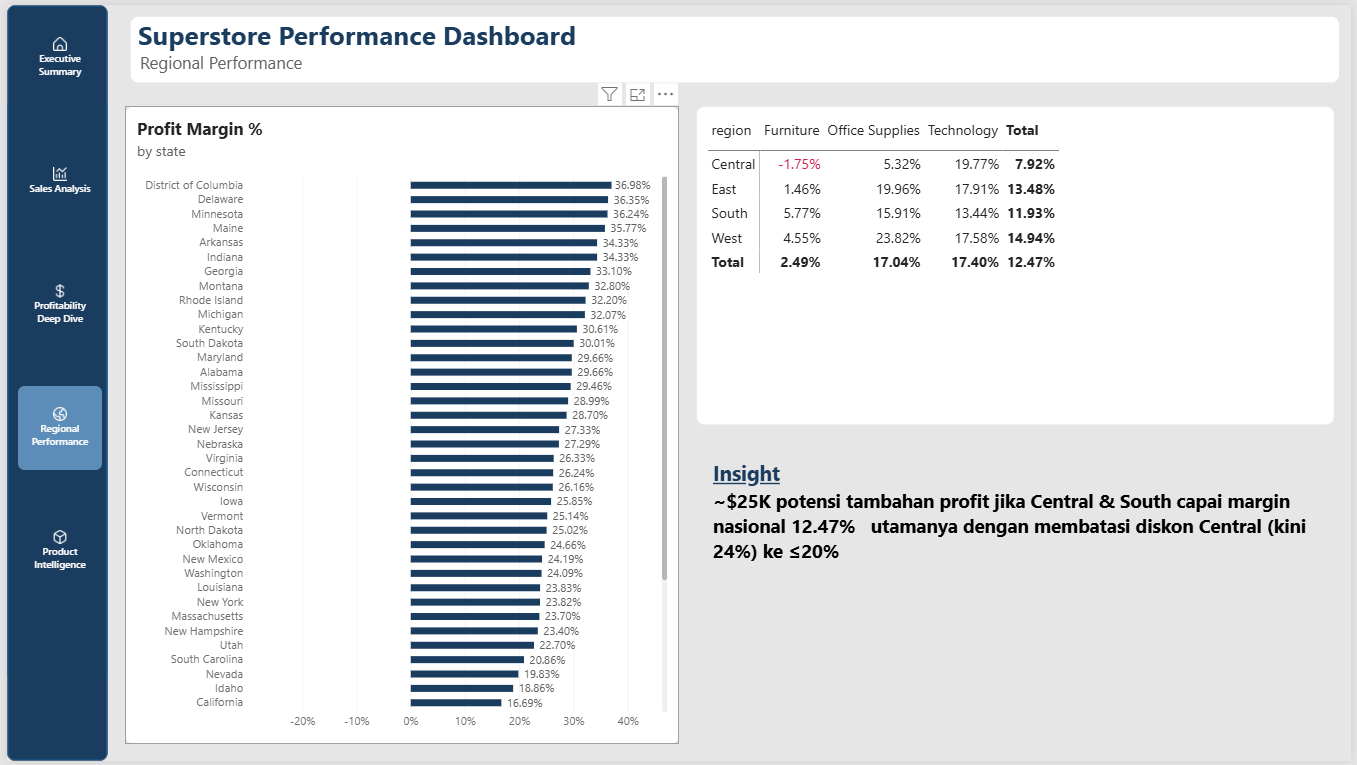

This screenshot's page, from the dashboard's own definition file:
{"tool":"powerbi","page":{"name":"Regional Performance","canvas":[1920,1080],"ordinal":3},"visuals":[{"type":"clusteredBarChart","fields":{"Category":["dim_geography.state"],"Y":["fact_orders.Profit Margin %"]},"box":[168,144,792,912],"z":0},{"type":"pivotTable","fields":{"Columns":["fact_orders.category"],"Rows":["dim_geography.region"],"Values":["fact_orders.Profit Margin %"]},"box":[984,144,912,456],"z":1000},{"type":"textbox","box":[176,16,1728,96],"z":3000},{"type":"shape","box":[0,0,144,1080],"z":4000},{"type":"actionButton","box":[16,16,120,120],"z":5000},{"type":"actionButton","box":[16,192,120,120],"z":6000},{"type":"actionButton","box":[16,368,120,120],"z":7000},{"type":"actionButton","box":[16,544,120,120],"z":8000},{"type":"actionButton","box":[16,720,120,120],"z":9000},{"type":"textbox","title":"Insight","box":[1008,648,912,312],"z":9001}]}

Visuals, with their boxes on the page's 1920x1080 design canvas (x1, y1, x2, y2). These are canvas units, not pixel positions in the 1357x765 screenshot, which may show the page scaled, cropped or inside an application window:
clusteredBarChart - dim_geography.state x fact_orders.Profit Margin %: [168,144,960,1056]
pivotTable - fact_orders.category x dim_geography.region: [984,144,1896,600]
textbox: [176,16,1904,112]
shape: [0,0,144,1080]
actionButton: [16,16,136,136]
actionButton: [16,192,136,312]
actionButton: [16,368,136,488]
actionButton: [16,544,136,664]
actionButton: [16,720,136,840]
"Insight" textbox: [1008,648,1920,960]
